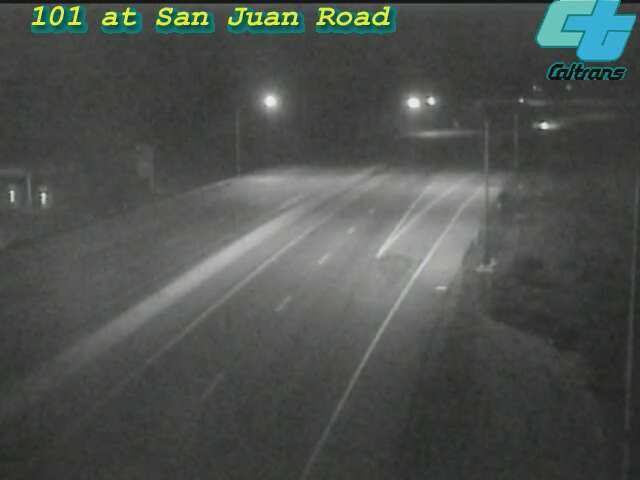vehicle: (521, 101, 571, 151)
